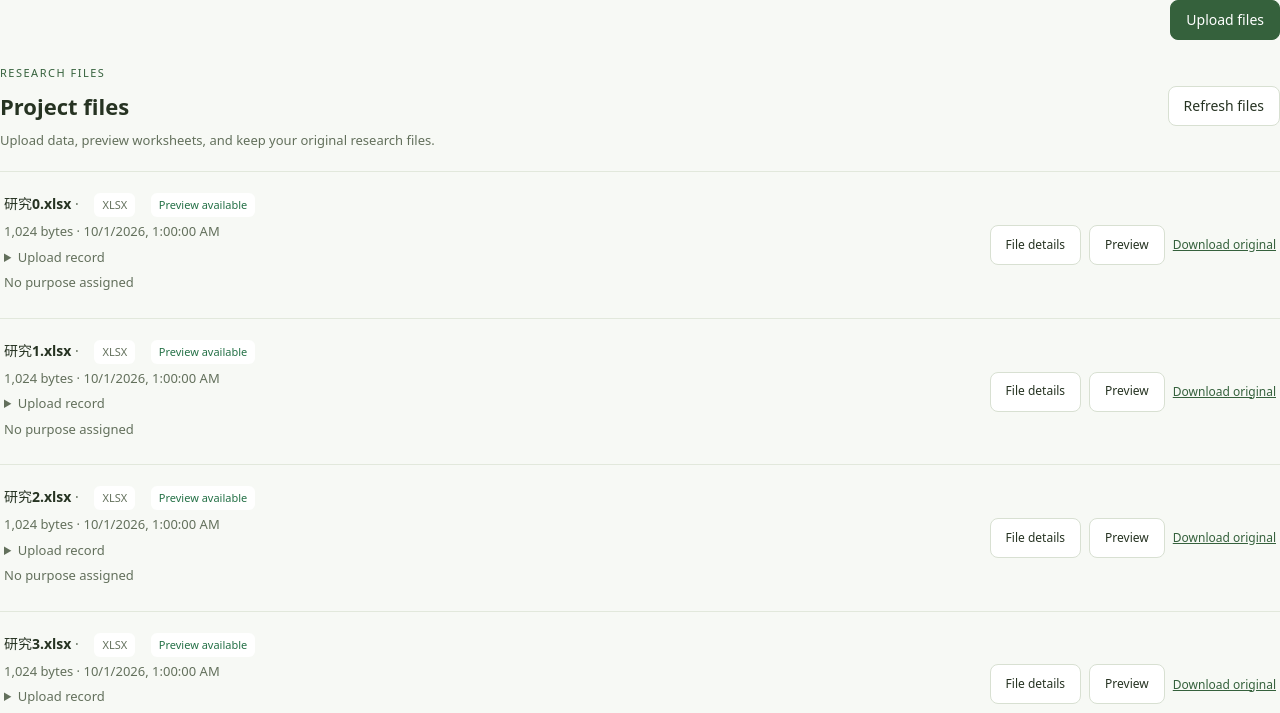
Test: English details show all reference counts and retention without internal metadata
Step 1. Click the 1st button "File details" → (1035, 245), box [990,225,1081,265]
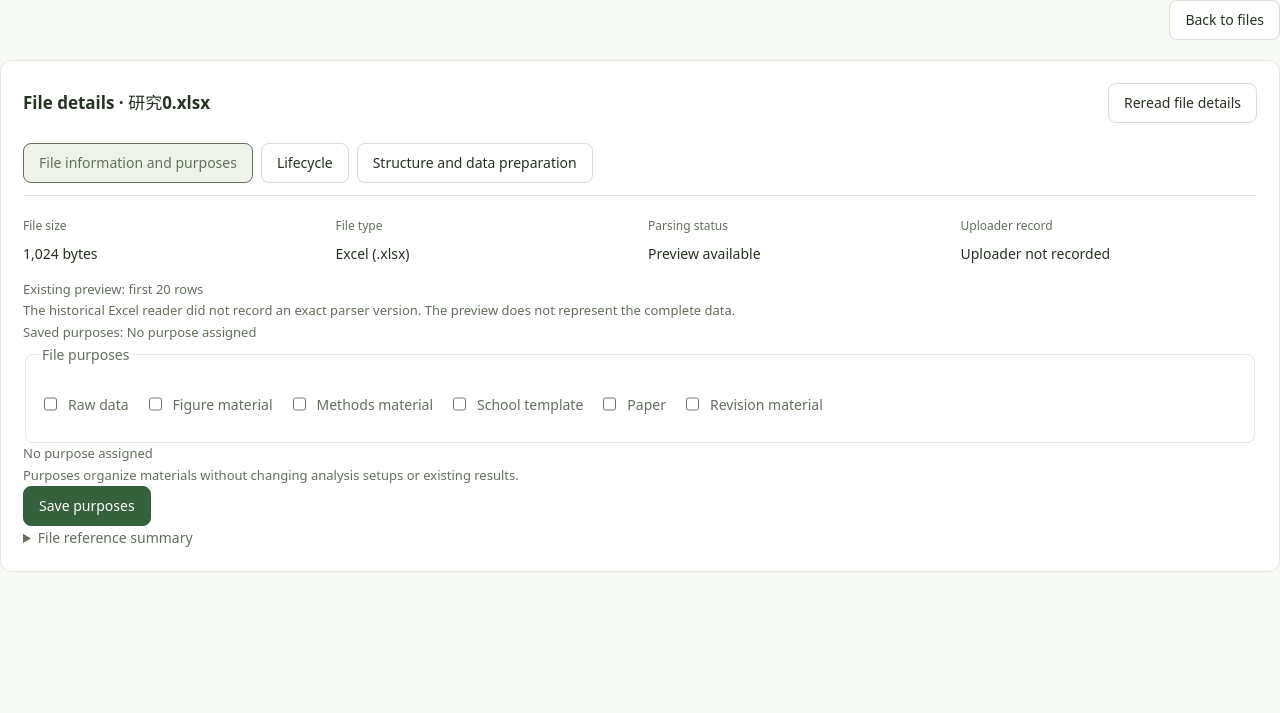
Now the element "File purposes" is shown, box [25,343,1255,443]
Now the text "Uploader not recorded" is shown, box [960,244,1110,263]
Now the text "Existing preview: first 20 rows" is shown, box [23,280,203,298]
Step 2. Click the button "Lifecycle" → (305, 163), box [261,143,349,183]
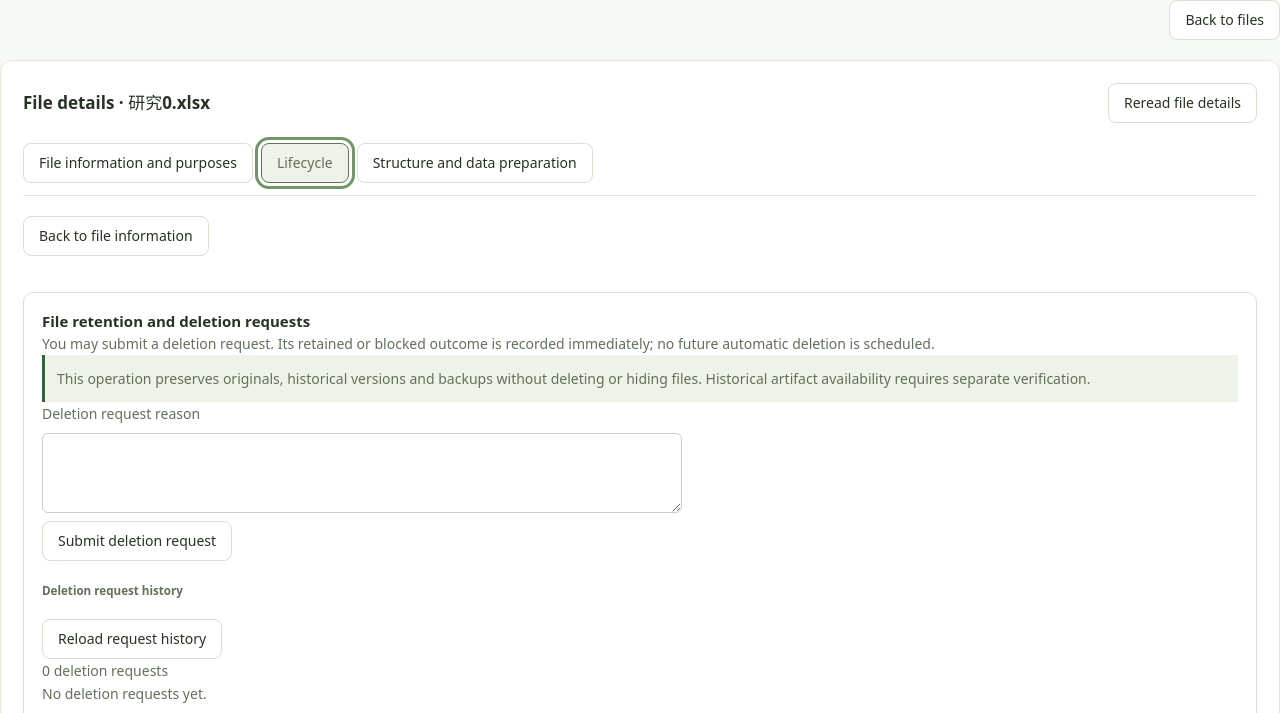
Now the text "You may submit a deletion request. Its retained or blocked outcome is recorded immediately; no future automatic deletion" is shown, box [42,334,935,353]
Now the text "This operation preserves originals, historical versions and backups without deleting or hiding files. Historical artifac" is shown, box [57,369,1090,388]
Now the button "Submit deletion request" is enabled, box [42,521,232,561]
